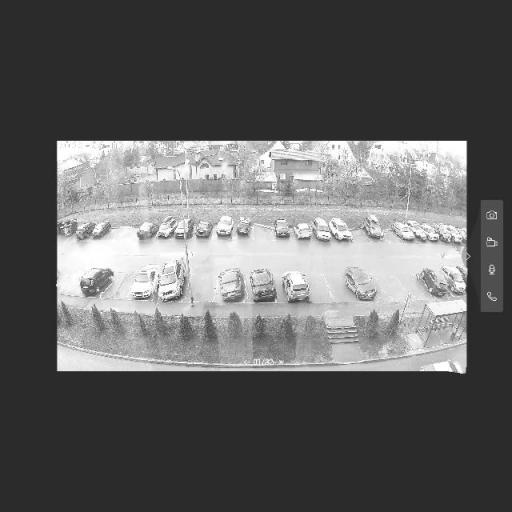busy: (148, 259, 193, 304), (212, 266, 250, 304), (128, 265, 166, 300), (342, 267, 381, 301), (76, 266, 116, 297), (282, 272, 318, 304), (416, 269, 454, 299), (246, 268, 278, 303), (358, 214, 390, 240), (412, 358, 470, 372), (314, 218, 344, 244), (324, 218, 352, 243), (392, 220, 421, 242), (212, 216, 238, 237), (448, 268, 469, 294), (161, 217, 185, 239), (420, 222, 446, 242), (170, 218, 192, 240), (190, 218, 214, 238), (430, 224, 456, 242), (232, 217, 256, 236), (74, 221, 97, 240), (270, 220, 293, 238), (138, 222, 160, 240), (87, 222, 110, 239), (292, 222, 314, 239), (448, 226, 467, 243), (60, 222, 78, 239)
free: (188, 274, 216, 300), (380, 274, 402, 302), (326, 276, 349, 300), (402, 274, 424, 298), (108, 274, 132, 296), (308, 277, 327, 302), (252, 222, 274, 240), (348, 224, 366, 242), (108, 228, 128, 241), (115, 229, 136, 241), (382, 228, 397, 244), (57, 272, 71, 288), (70, 278, 82, 295)
